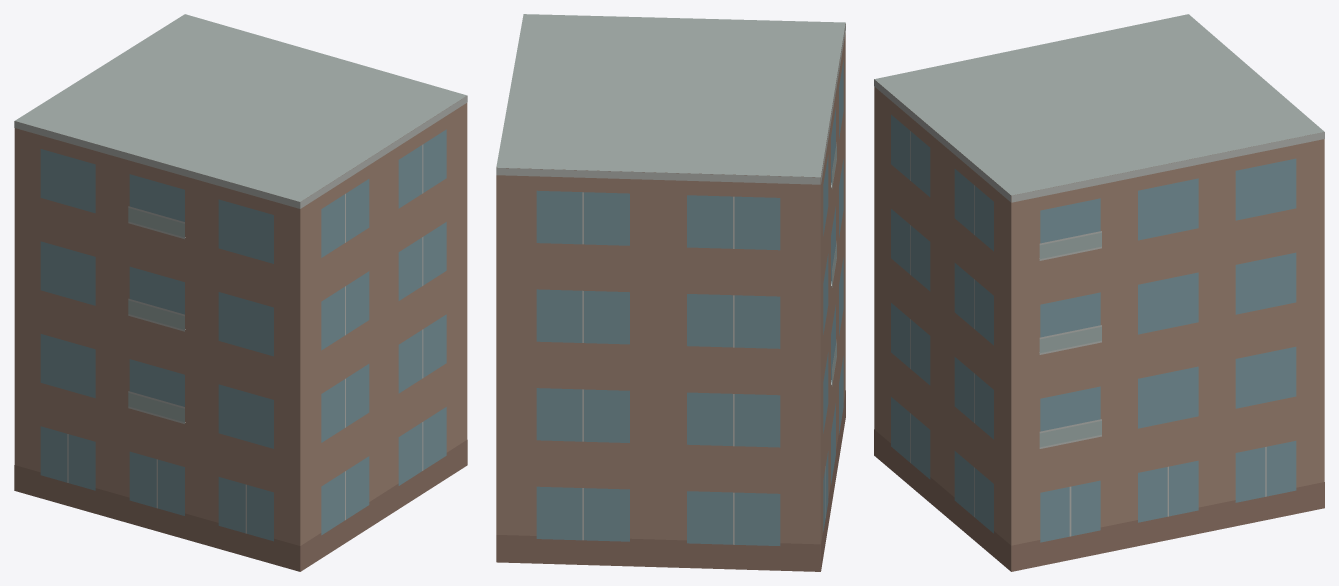
Rendered from survey-upis-32746340.glb.
3 renders of one model, left to right at view 1: azimuth 30°, elevation 25°; view 2: azimuth 150°, elevation 25°; view 3: azimuth 270°, elevation 25°, orthographic. The views are drawn at different scales.
Parts seen in each view (by area): view 1: survey-upis-32746340.tmp; view 2: survey-upis-32746340.tmp; view 3: survey-upis-32746340.tmp.
Part boxes in pixels (bbox=[...]): survey-upis-32746340.tmp: bbox=[14, 14, 467, 571]; survey-upis-32746340.tmp: bbox=[496, 14, 845, 571]; survey-upis-32746340.tmp: bbox=[874, 14, 1324, 571].
Size of the model in its own units: 13.36 by 12.9 by 14.01.
